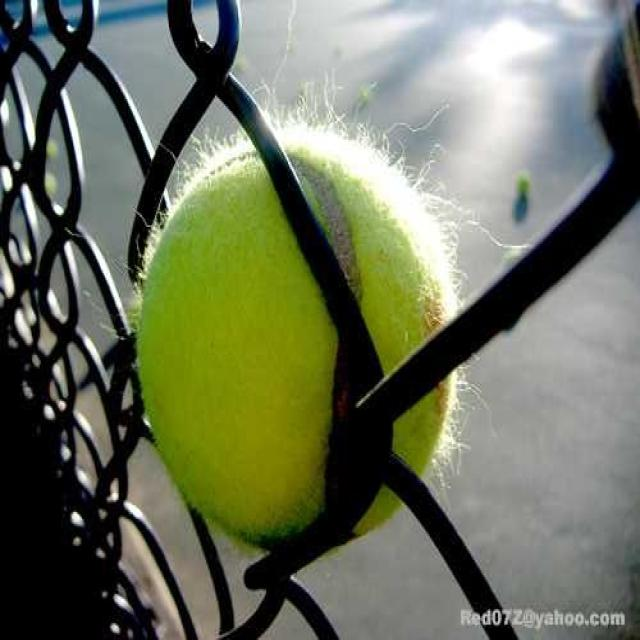Tennis_Ball: (135, 135, 447, 548)
